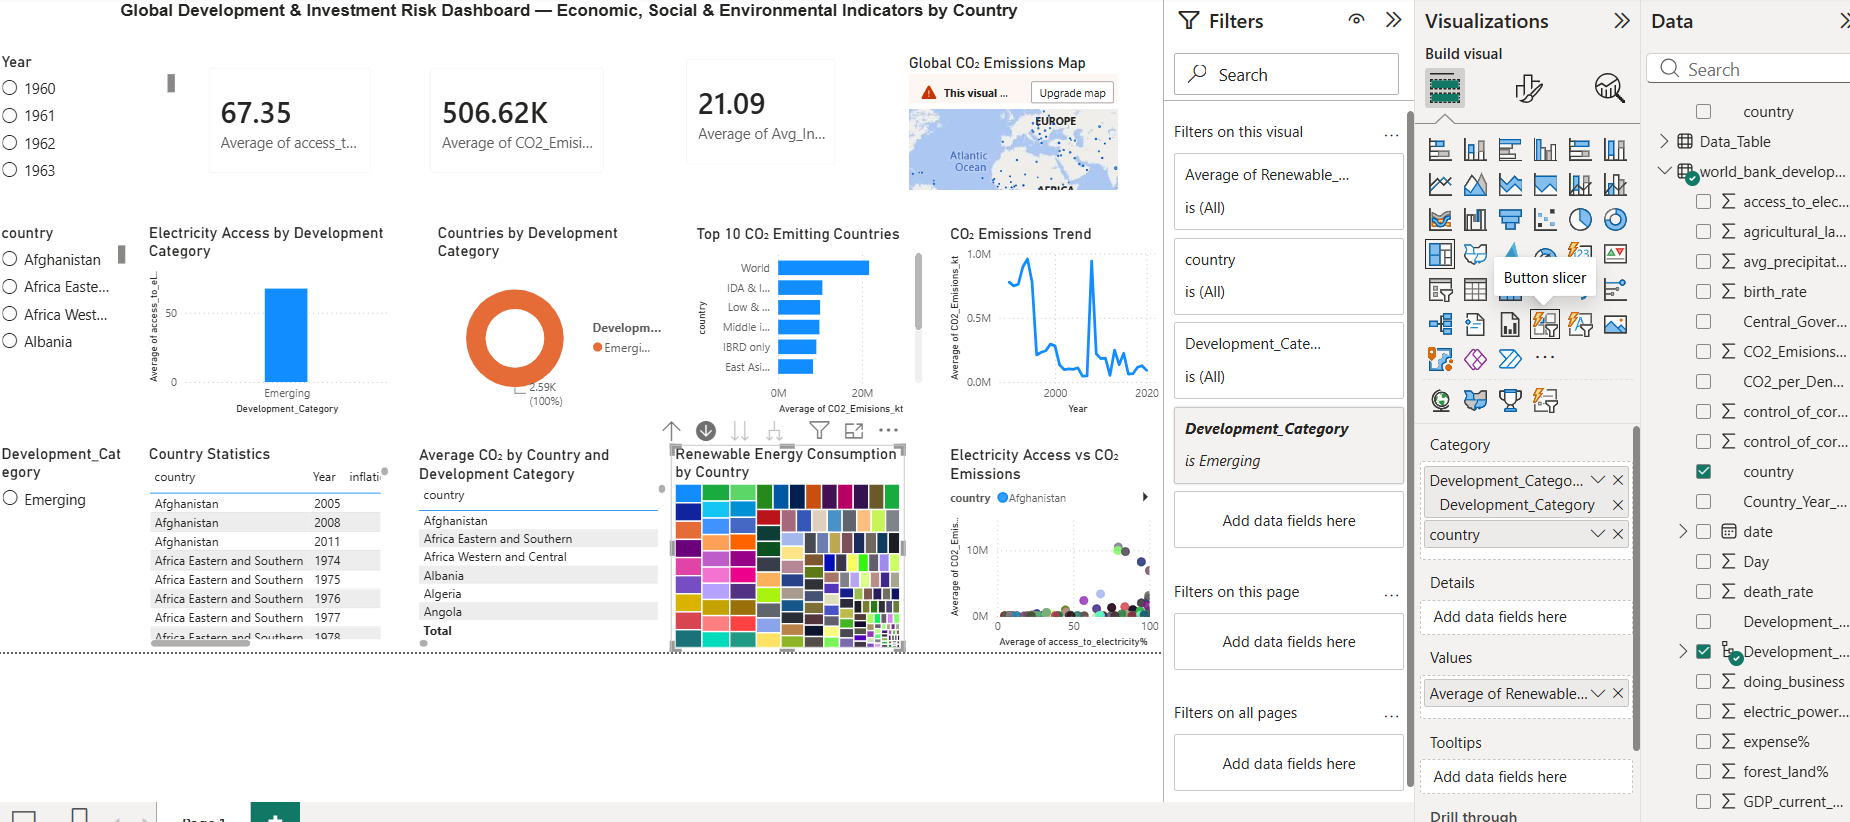

This screenshot's page, from the dashboard's own definition file:
{"tool":"powerbi","page":{"name":"Page 1","canvas":[1280,720],"ordinal":0},"visuals":[{"type":"textbox","box":[130.4,0,1023.7,34.3],"z":0},{"type":"cardVisual","fields":{"Data":["Avg(world_bank_development_indicato.access_to_electricity%)"]},"box":[189.4,61.7,273.1,172.9],"z":1000},{"type":"cardVisual","fields":{"Data":["Avg(world_bank_development_indicato.CO2_Emisions_kt)"]},"box":[478.9,61.7,260.7,172.9],"z":2000},{"type":"cardVisual","fields":{"Data":["Avg(Country_Summary.Avg_Inflation)"]},"box":[750.6,61.7,258,172.9],"z":3000},{"type":"barChart","title":"Top 10 CO₂ Emitting Countries","fields":{"Category":["world_bank_development_indicato.country"],"Y":["Avg(world_bank_development_indicato.CO2_Emisions_kt)"]},"box":[750.6,252.5,258,214.1],"z":4000},{"type":"clusteredColumnChart","title":"Electricity Access by Development Category","fields":{"Category":["world_bank_development_indicato.Development_Category"],"Y":["Avg(world_bank_development_indicato.access_to_electricity%)"]},"box":[189.4,252.5,273.1,214.1],"z":5000},{"type":"lineChart","title":"CO₂ Emissions Trend","fields":{"Y":["Avg(world_bank_development_indicato.CO2_Emisions_kt)"],"Category":["world_bank_development_indicato.Year"]},"box":[1020.9,252.5,252.5,214.1],"z":6000},{"type":"donutChart","title":"Countries by Development Category","fields":{"Category":["world_bank_development_indicato.Development_Category"],"Y":["CountNonNull(world_bank_development_indicato.country)"]},"box":[478.9,252.5,260.7,214.1],"z":7000},{"type":"tableEx","title":"Country Statistics","fields":{"Values":["world_bank_development_indicato.country","world_bank_development_indicato.Year","world_bank_development_indicato.inflation_annual%","world_bank_development_indicato.CO2_Emisions_kt","world_bank_development_indicato.access_to_electricity%"]},"box":[189.4,492.6,273.1,227.8],"z":8000},{"type":"pivotTable","title":"Average CO₂ by Country and Development Category","fields":{"Rows":["world_bank_development_indicato.country"],"Columns":["world_bank_development_indicato.Development_Category"],"Values":["Avg(world_bank_development_indicato.CO2_Emisions_kt)"]},"box":[478.9,492.6,260.7,227.8],"z":9000},{"type":"azureMap","title":"Global CO₂ Emissions Map","fields":{"Category":["world_bank_development_indicato.country"],"Size":["Avg(world_bank_development_indicato.CO2_Emisions_kt)"]},"box":[1020.9,61.7,252.5,172.9],"z":10000},{"type":"scatterChart","title":"Electricity Access vs CO₂ Emissions","fields":{"X":["Avg(world_bank_development_indicato.access_to_electricity%)"],"Y":["Avg(world_bank_development_indicato.CO2_Emisions_kt)"],"Series":["world_bank_development_indicato.country"]},"box":[1020.9,492.6,252.5,227.8],"z":11000},{"type":"treemap","title":"Renewable Energy Consumption by Country","fields":{"Values":["Avg(world_bank_development_indicato.Renewable_energy_consumption_pct)"],"Group":["world_bank_development_indicato.Development_Category Hierarchy.Development_Category","world_bank_development_indicato.country"]},"box":[752,492.6,256.6,227.8],"z":12000},{"type":"listSlicer","fields":{"Values":["world_bank_development_indicato.Year"]},"box":[0,61.7,179.8,172.9],"z":13000},{"type":"listSlicer","fields":{"Values":["world_bank_development_indicato.country"]},"box":[2.7,252.5,177,214.1],"z":14000},{"type":"listSlicer","fields":{"Values":["world_bank_development_indicato.Development_Category"]},"box":[0,492.6,179.8,227.8],"z":15000}]}

Visuals, with their boxes on the page's 1280x720 design canvas (x1, y1, x2, y2). These are canvas units, not pixel positions in the 1850x822 screenshot, which may show the page scaled, cropped or inside an application window:
textbox: [x1=130, y1=0, x2=1154, y2=34]
cardVisual - Avg(world_bank_development_indicato.access_to_electricity%): [x1=189, y1=62, x2=462, y2=235]
cardVisual - Avg(world_bank_development_indicato.CO2_Emisions_kt): [x1=479, y1=62, x2=740, y2=235]
cardVisual - Avg(Country_Summary.Avg_Inflation): [x1=751, y1=62, x2=1009, y2=235]
"Top 10 CO₂ Emitting Countries" barChart: [x1=751, y1=252, x2=1009, y2=467]
"Electricity Access by Development Category" clusteredColumnChart: [x1=189, y1=252, x2=462, y2=467]
"CO₂ Emissions Trend" lineChart: [x1=1021, y1=252, x2=1273, y2=467]
"Countries by Development Category" donutChart: [x1=479, y1=252, x2=740, y2=467]
"Country Statistics" tableEx: [x1=189, y1=493, x2=462, y2=720]
"Average CO₂ by Country and Development Category" pivotTable: [x1=479, y1=493, x2=740, y2=720]
"Global CO₂ Emissions Map" azureMap: [x1=1021, y1=62, x2=1273, y2=235]
"Electricity Access vs CO₂ Emissions" scatterChart: [x1=1021, y1=493, x2=1273, y2=720]
"Renewable Energy Consumption by Country" treemap: [x1=752, y1=493, x2=1009, y2=720]
listSlicer - world_bank_development_indicato.Year: [x1=0, y1=62, x2=180, y2=235]
listSlicer - world_bank_development_indicato.country: [x1=3, y1=252, x2=180, y2=467]
listSlicer - world_bank_development_indicato.Development_Category: [x1=0, y1=493, x2=180, y2=720]
